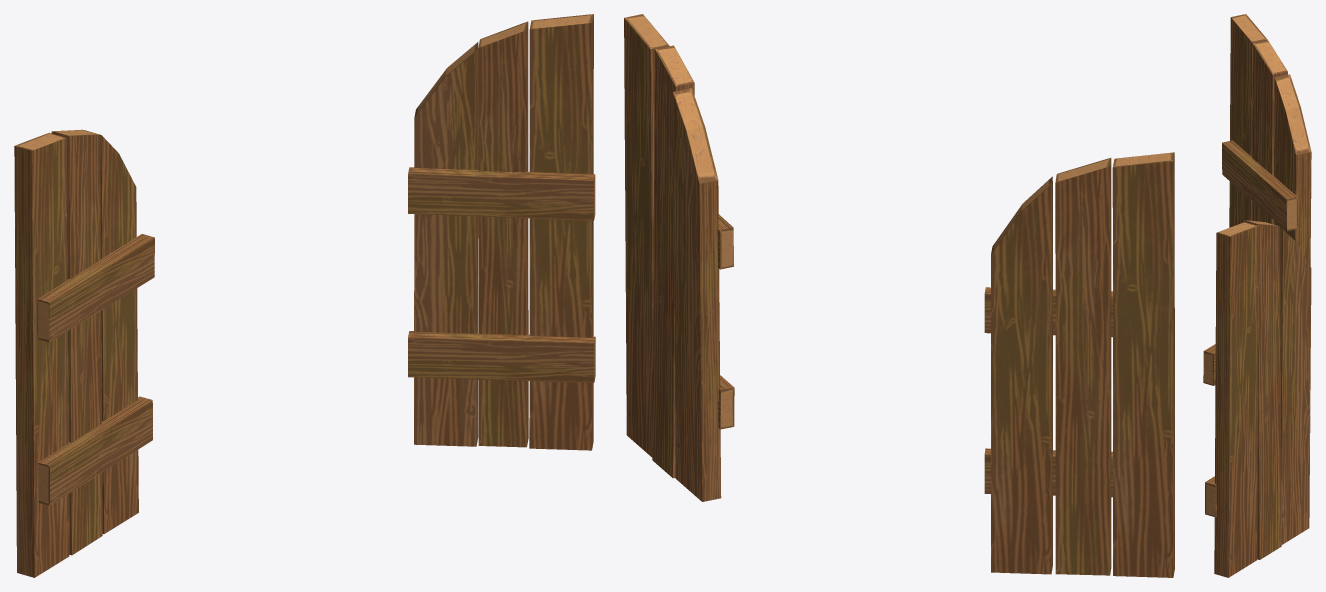
The model's file is WindowShutters_Wide_Round_Open.obj.
3 renders of one model, left to right at view 1: azimuth 30°, elevation 25°; view 2: azimuth 150°, elevation 25°; view 3: azimuth 270°, elevation 25°, orthographic. The views are drawn at different scales.
Visible parts, largest first — view 1: WindowShutters_Wide_Round_Open; view 2: WindowShutters_Wide_Round_Open; view 3: WindowShutters_Wide_Round_Open.
Part boxes in pixels (x1,y1,x2,y2): WindowShutters_Wide_Round_Open: (14, 14, 595, 577); WindowShutters_Wide_Round_Open: (624, 14, 1174, 577); WindowShutters_Wide_Round_Open: (1203, 14, 1311, 577).
Size of the model in its own units: 2.3 by 1.65 by 0.4724.
